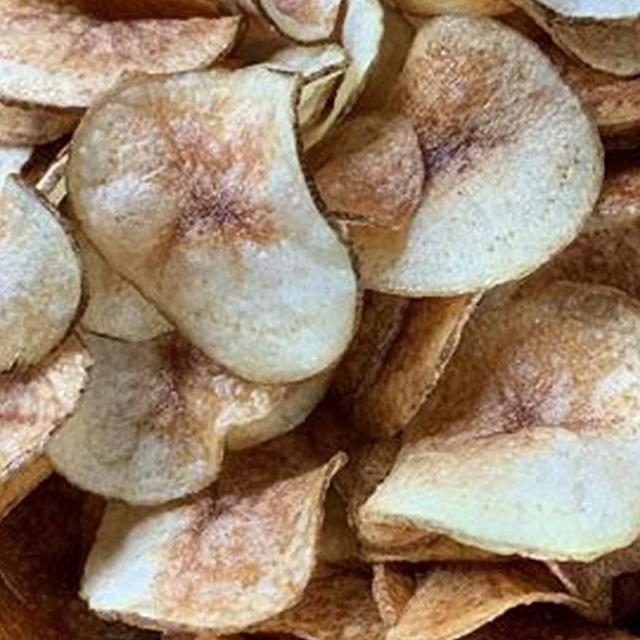food_waste: (0, 10, 640, 576)
